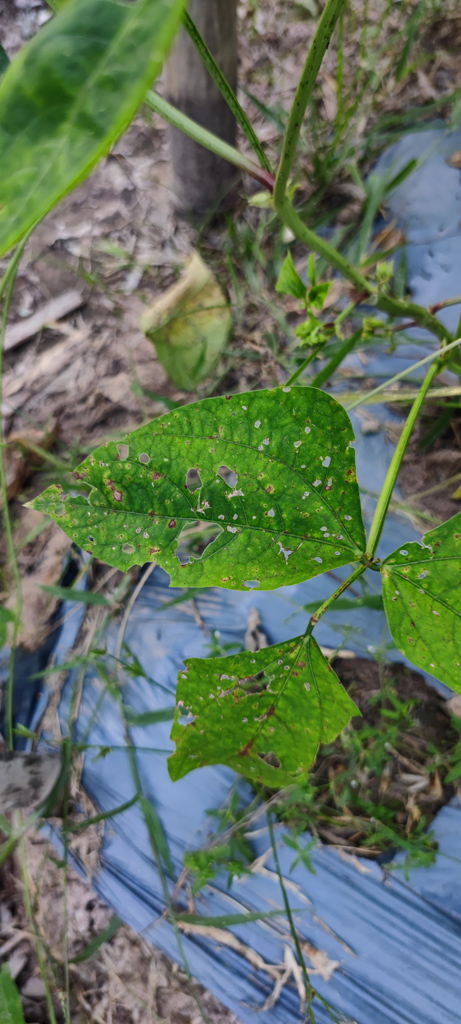Rust: (24, 386, 365, 598), (167, 633, 348, 802)
